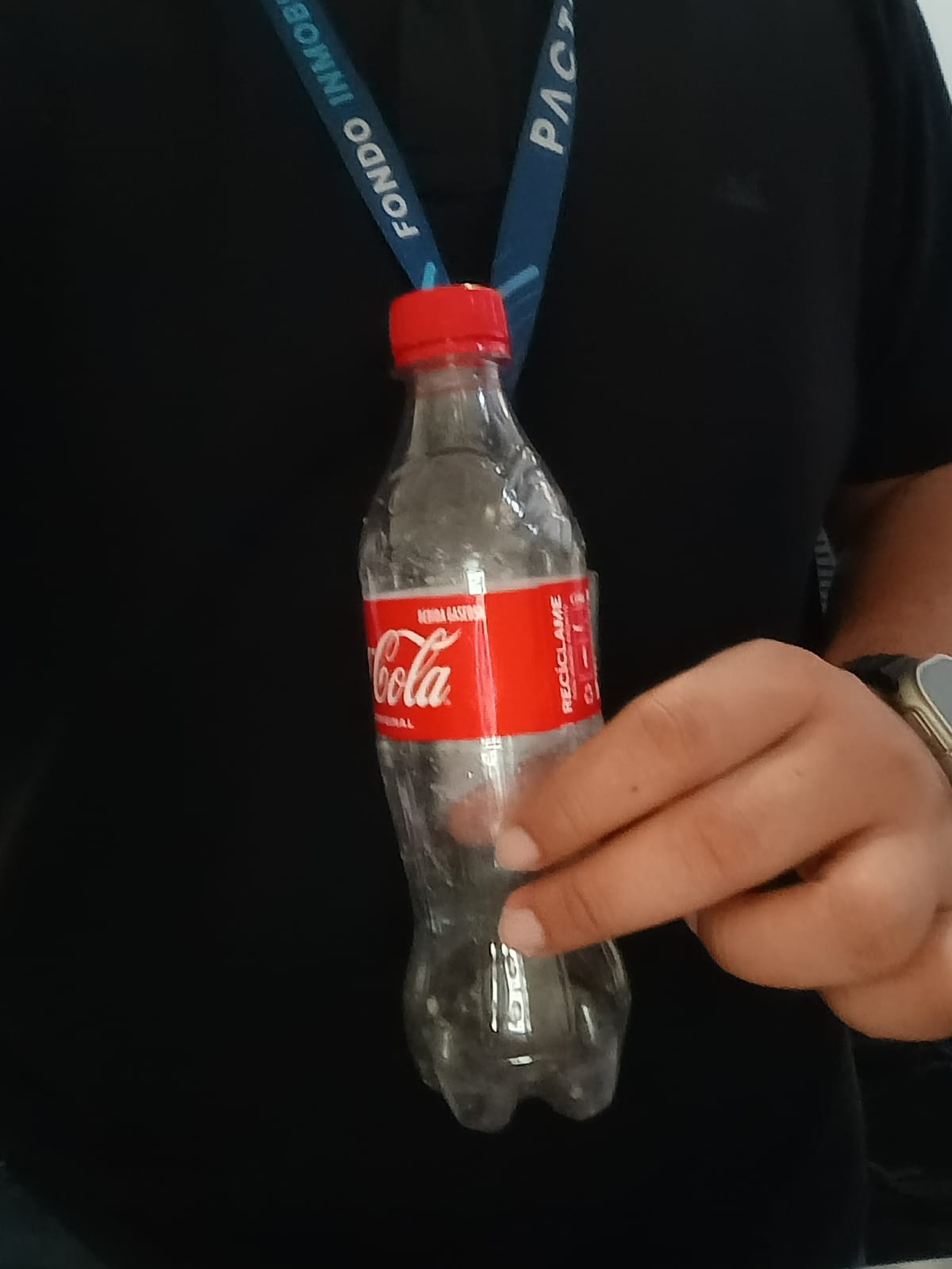Plastico: (359, 283, 625, 1134)
